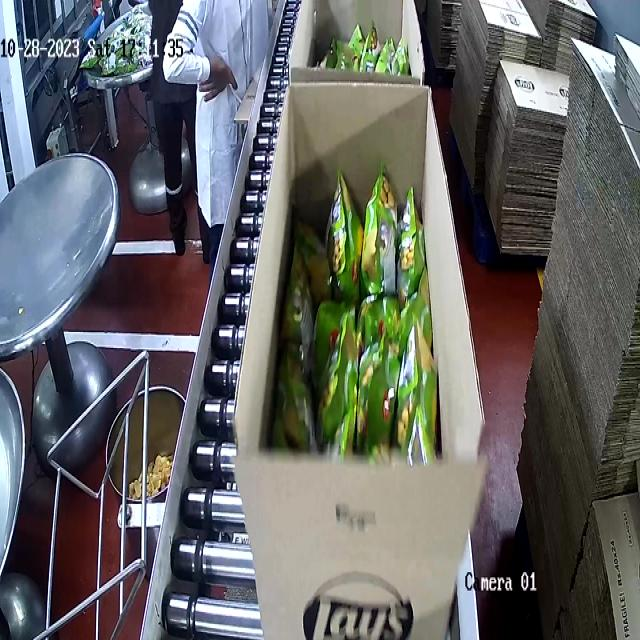YOGURT_HERB: (266, 175, 442, 454), (311, 20, 416, 76)
